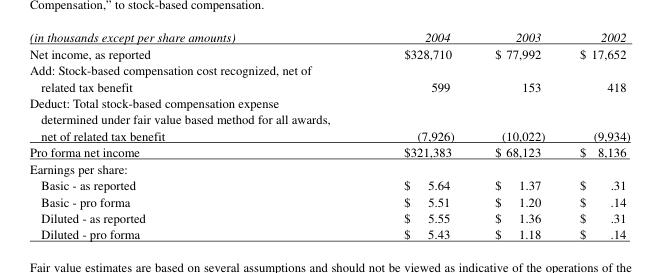table: (28, 29, 629, 242)
table column: (28, 29, 366, 242), (366, 29, 473, 242), (473, 29, 561, 242), (561, 29, 629, 242)
table column header: (28, 29, 629, 44)
table projected row header: (28, 159, 629, 176)
table row: (28, 93, 629, 143), (28, 60, 629, 93), (28, 159, 629, 176), (28, 208, 629, 225), (28, 225, 629, 242), (28, 44, 629, 60), (28, 143, 629, 159), (28, 176, 629, 192), (28, 192, 629, 208), (28, 29, 629, 44)
